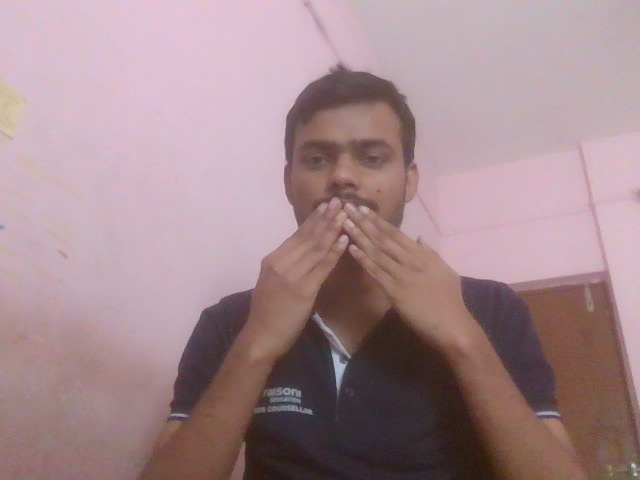ThankYou: (241, 177, 558, 413)
